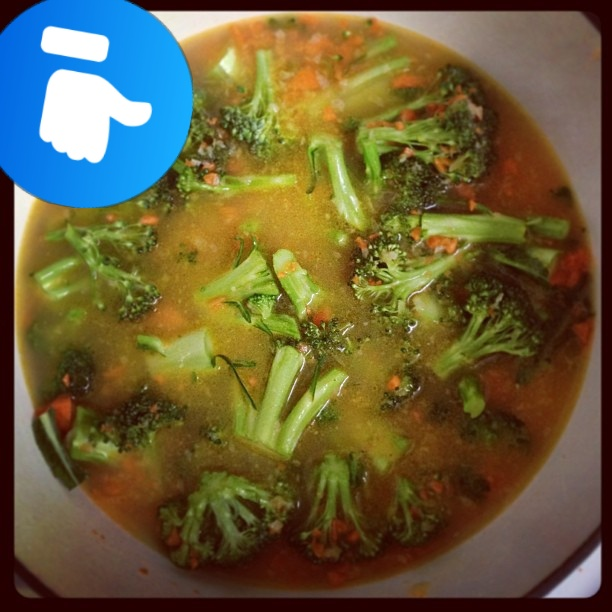like: (0, 0, 193, 208)
